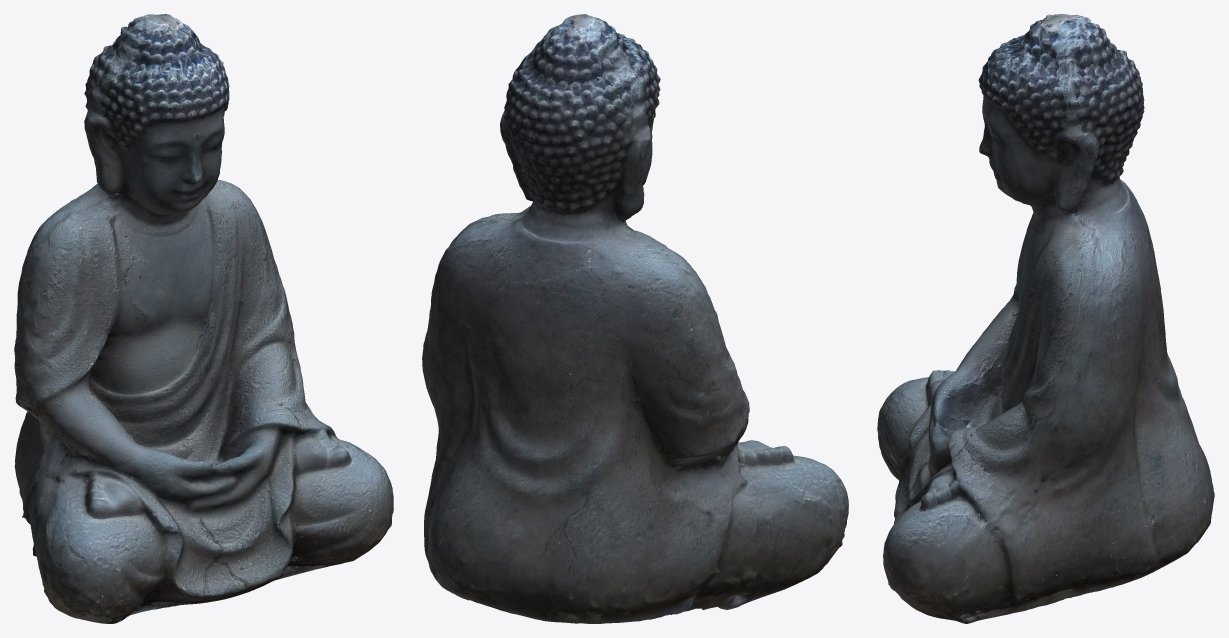
The model's file is adida.glb.
3 renders of one model, left to right at view 1: azimuth 30°, elevation 25°; view 2: azimuth 150°, elevation 25°; view 3: azimuth 270°, elevation 25°, orthographic. The views are drawn at different scales.
Parts seen in each view (by area): view 1: defaultobject; view 2: defaultobject; view 3: defaultobject.
Boxes of the visible parts, <box> form: defaultobject: <box>14,14,393,623</box>; defaultobject: <box>422,14,848,623</box>; defaultobject: <box>877,14,1214,623</box>.
Bounding box in the file's own units: 1.32 × 2 × 1.11.
Materials: 1 (1 with a texture image).
